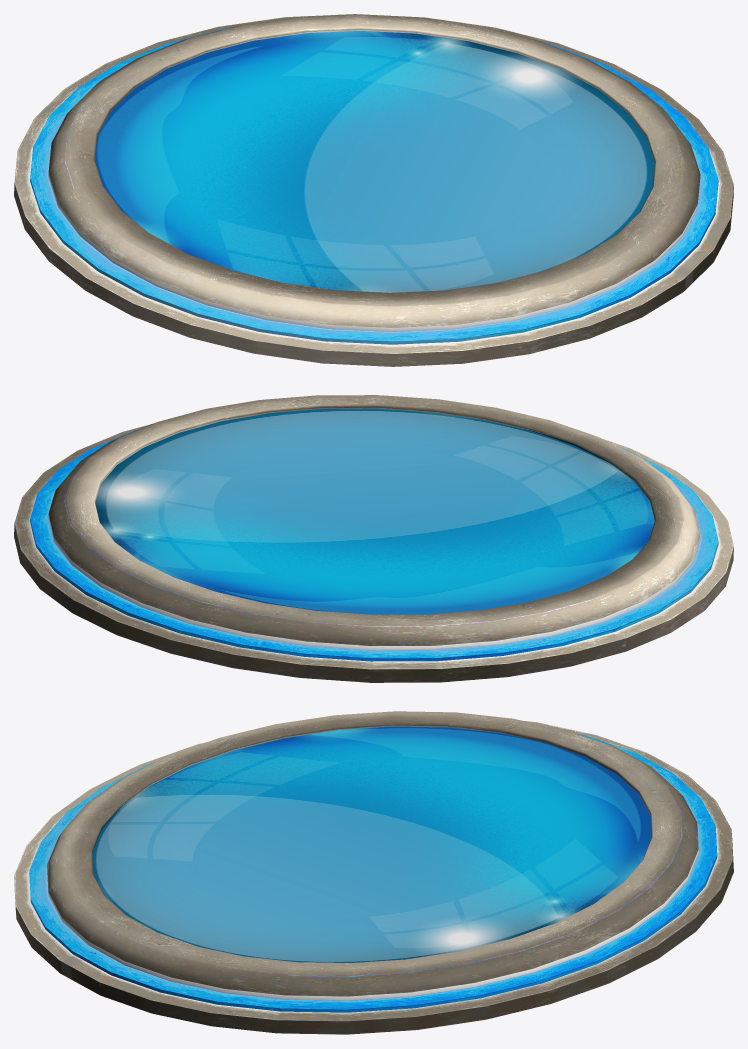
File: New_Stage.FBX
3 views of the same model, one above another, from view 1: azimuth 30°, elevation 25°; view 2: azimuth 150°, elevation 25°; view 3: azimuth 270°, elevation 25° (orthographic).
Visible parts, largest first — view 1: node_id4; view 2: node_id4; view 3: node_id4.
Part boxes in pixels (x1,y1,x2,y2): node_id4: (14, 14, 733, 366); node_id4: (14, 395, 733, 682); node_id4: (14, 711, 733, 1034).
Size of the model in its own units: 0.201 by 0.0231 by 0.2008.
1 material, 1 textured.
